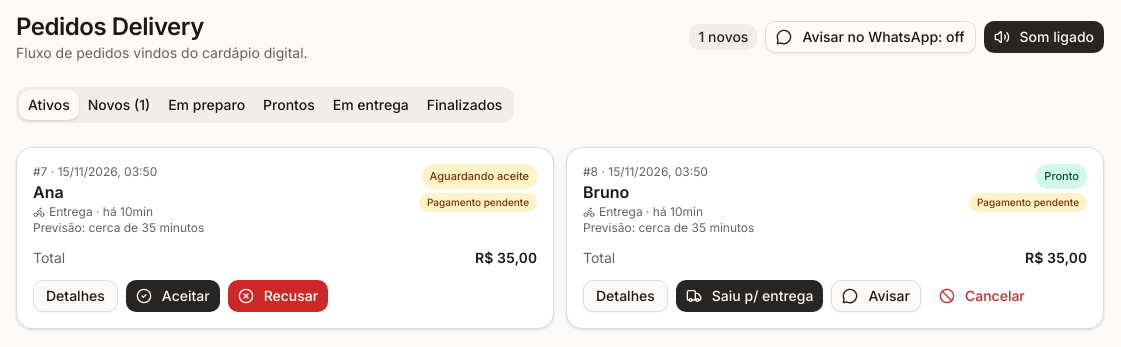
Test case: PedidosDelivery › filtra os finalizados em sua própria aba
Check: the text "Ana" is shown, box [33,182,64,202]
Click the tab "Finalizados" at (465, 105), box [418,90,511,120]
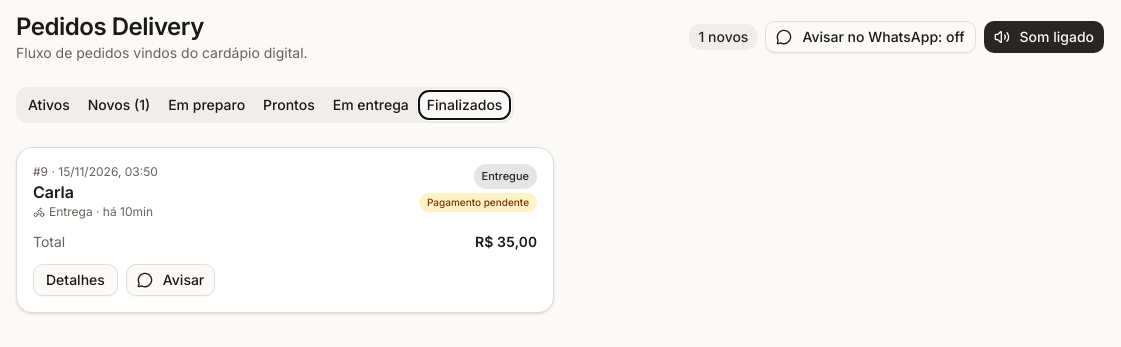
Check: the text "Carla" is shown, box [33,182,74,202]
Check: the text "Ana" is gone
